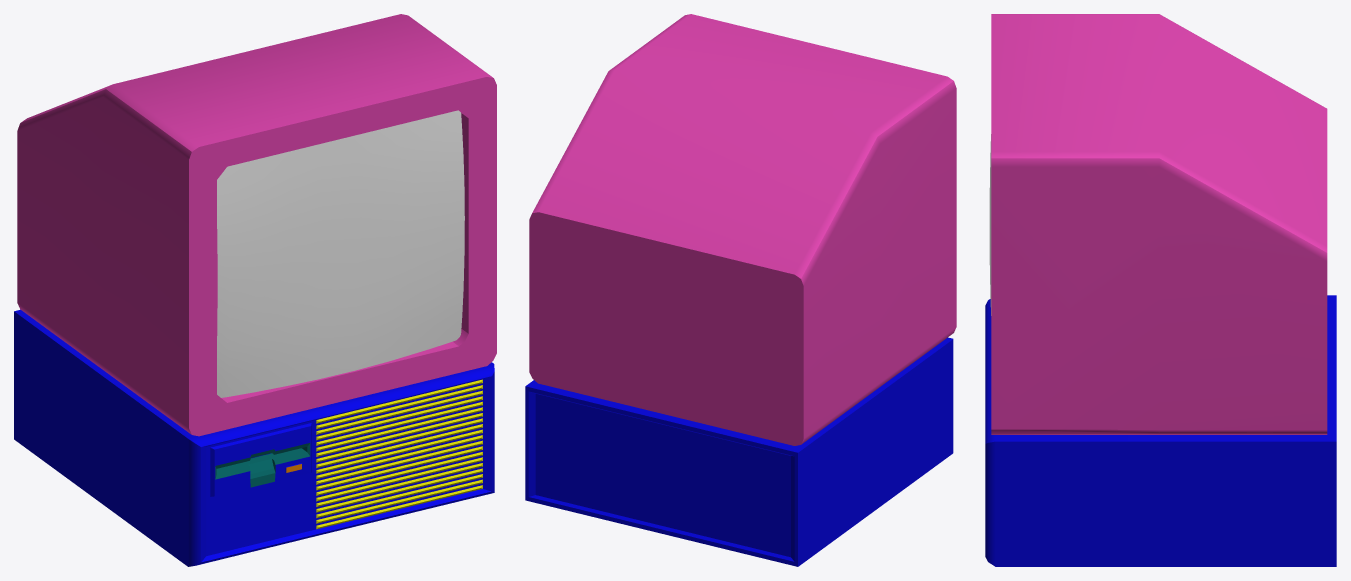
Rendered from vintage_computer.fbx.
3 views of the same model, side by side, from view 1: azimuth 30°, elevation 25°; view 2: azimuth 150°, elevation 25°; view 3: azimuth 270°, elevation 25° (orthographic). The views are drawn at different scales.
Parts seen in each view (by area): view 1: pCube9, polySurface22, polySurface1, polySurface2, polySurface3, polySurface7, polySurface9, polySurface16, polySurface18, polySurface5, polySurface8, polySurface10 (+11 smaller); view 2: pCube9, polySurface1; view 3: pCube9, polySurface1.
Boxes of the visible parts, left/top/right/bottom form: pCube9: left=17, top=14, right=496, bottom=436; polySurface22: left=217, top=110, right=464, bottom=397; polySurface1: left=14, top=309, right=494, bottom=566; polySurface2: left=316, top=485, right=482, bottom=529; polySurface3: left=316, top=479, right=482, bottom=523; polySurface7: left=316, top=457, right=482, bottom=501; polySurface9: left=316, top=446, right=482, bottom=490; polySurface16: left=316, top=407, right=482, bottom=451; polySurface18: left=316, top=396, right=482, bottom=440; polySurface5: left=316, top=468, right=482, bottom=512; polySurface8: left=316, top=452, right=482, bottom=495; polySurface10: left=316, top=440, right=482, bottom=484; pCube9: left=529, top=14, right=956, bottom=445; polySurface1: left=525, top=337, right=953, bottom=566; pCube9: left=991, top=14, right=1327, bottom=434; polySurface1: left=985, top=295, right=1336, bottom=566.
Size of the model in its own units: 2.01 by 2.62 by 2.03.
